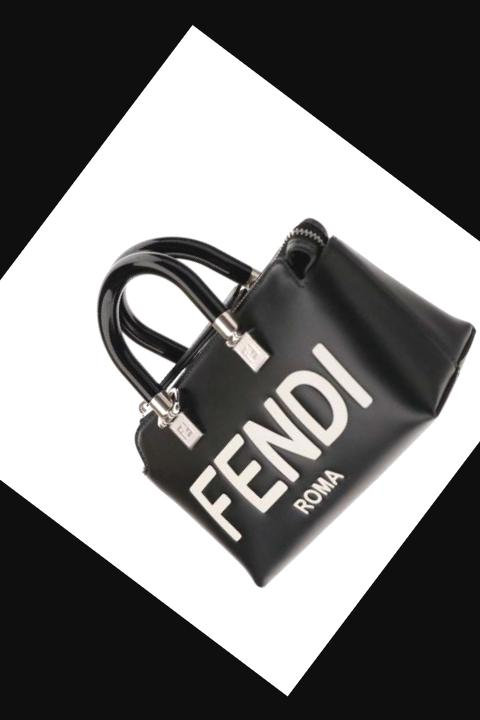FENDI: (181, 331, 383, 556)
